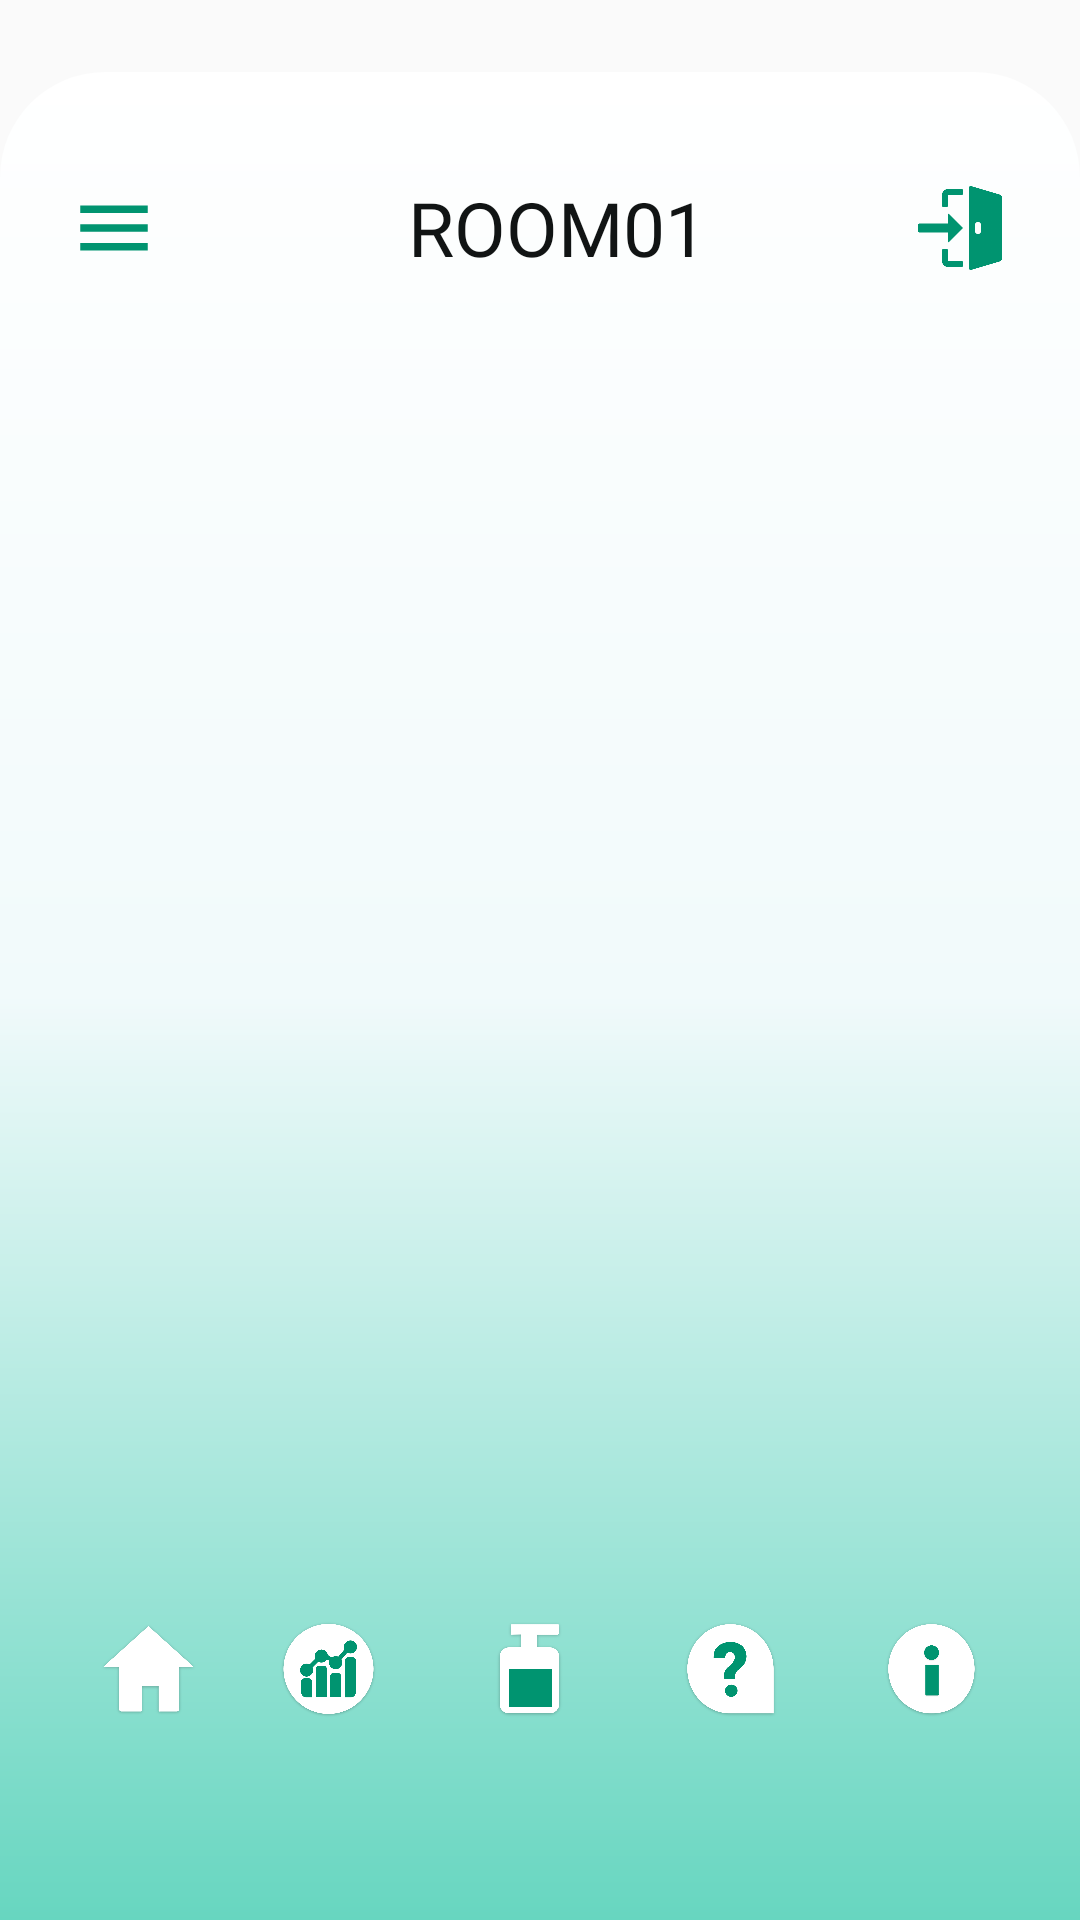

Screen size 1080w x 1920h. Icon name, then its center in pixels as (x=x, y=y):
about: (x=931, y=1669)
Change Room: (x=960, y=228)
guide: (x=730, y=1669)
home: (x=148, y=1669)
reports: (x=328, y=1669)
tank: (x=529, y=1669)
